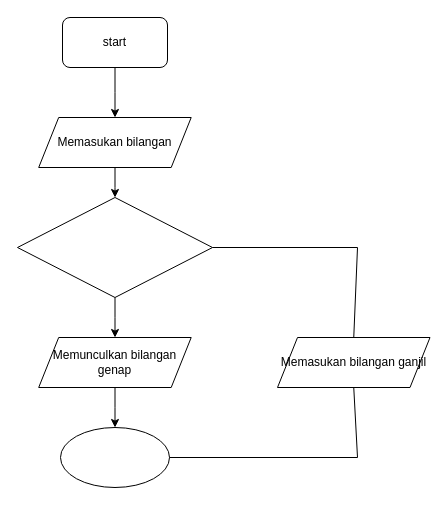
This 448x505 diagram has some shape labels left out. The box of each missing label's shape, as (x1, y1, x2, y2) in pixels:
Jika bilangan %=0: (16, 196, 212, 298)
Selesai: (60, 426, 170, 488)
